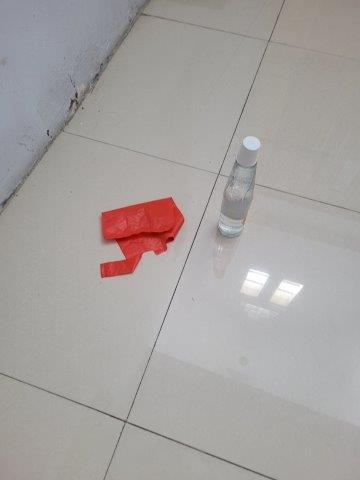botolkaca: (213, 138, 260, 240)
plastik: (94, 194, 186, 278)
